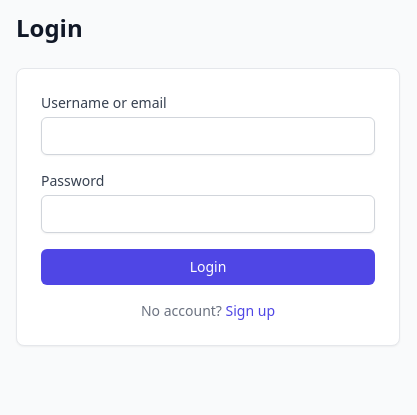
Test: LoginPage › shows a validation error when submitting empty fields
Click the button "Login".
click(208, 267)  # box [41,249,375,285]
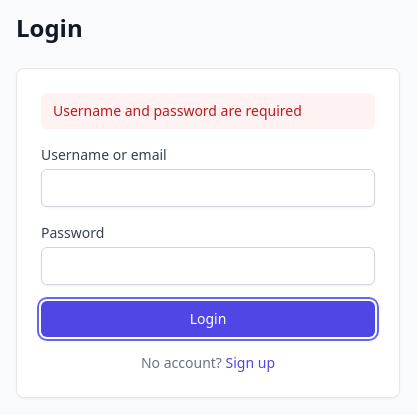
Expected: the message shows "required", [53,101,302,120]
